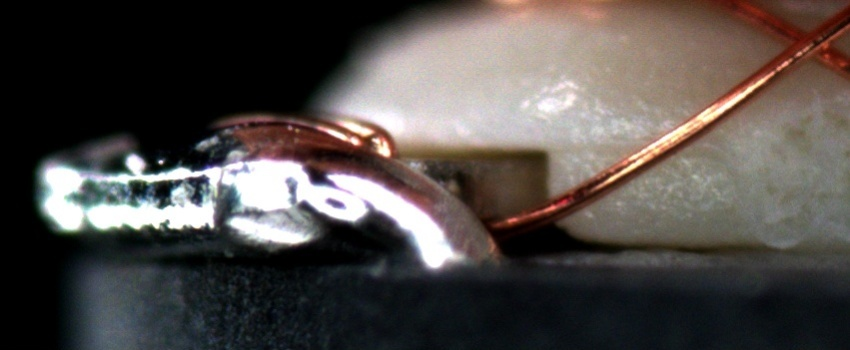CL: (768, 10, 844, 74)
DL: (574, 111, 719, 171)
TE: (293, 105, 400, 158)
